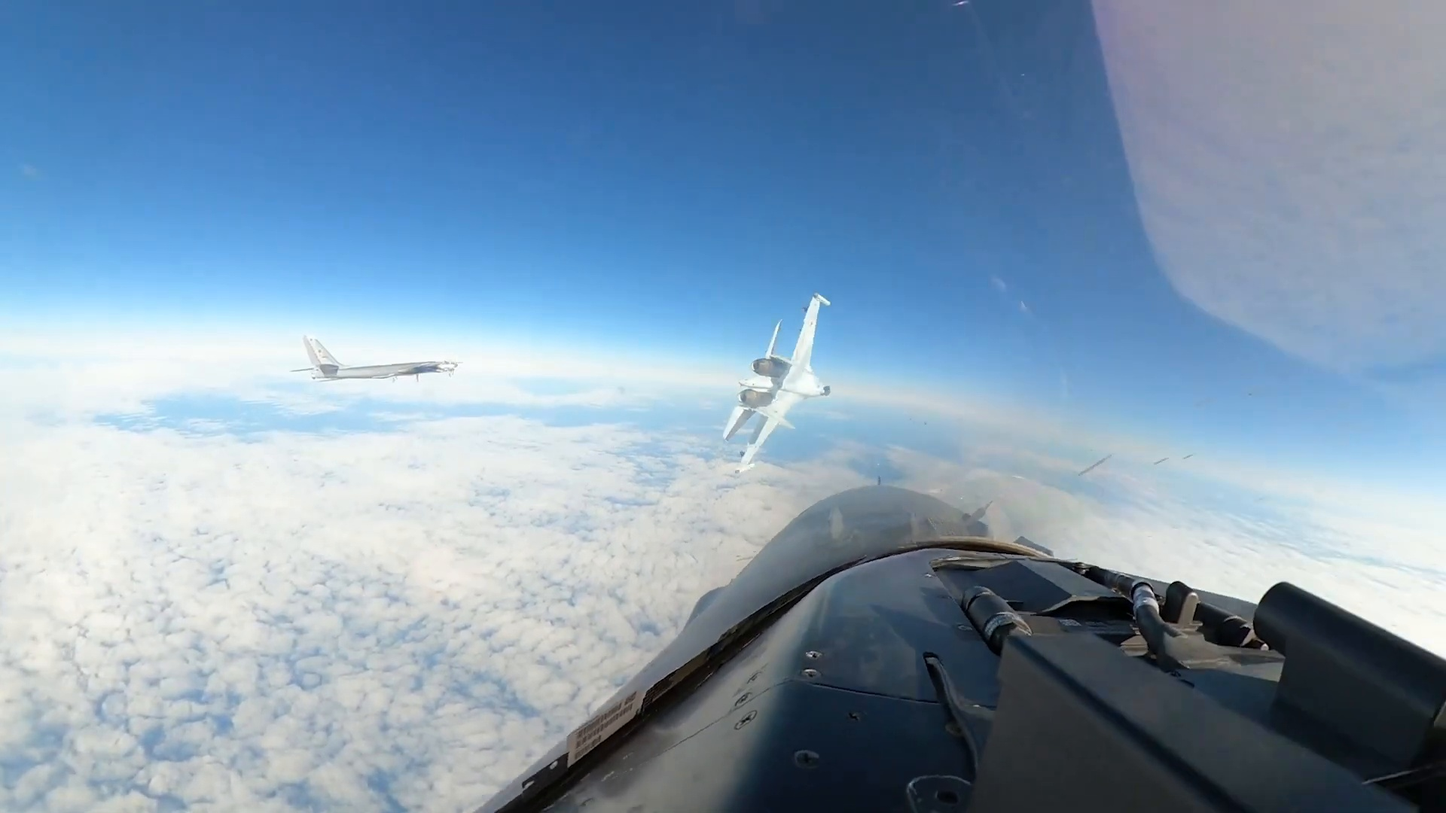Su35: (720, 292, 837, 476)
